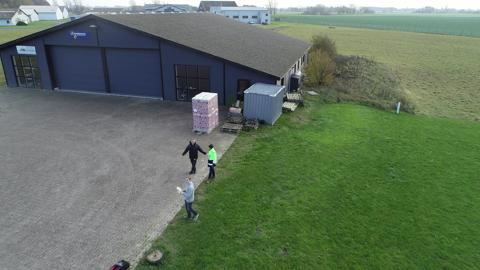RockwoolPallet: (192, 91, 220, 133)
